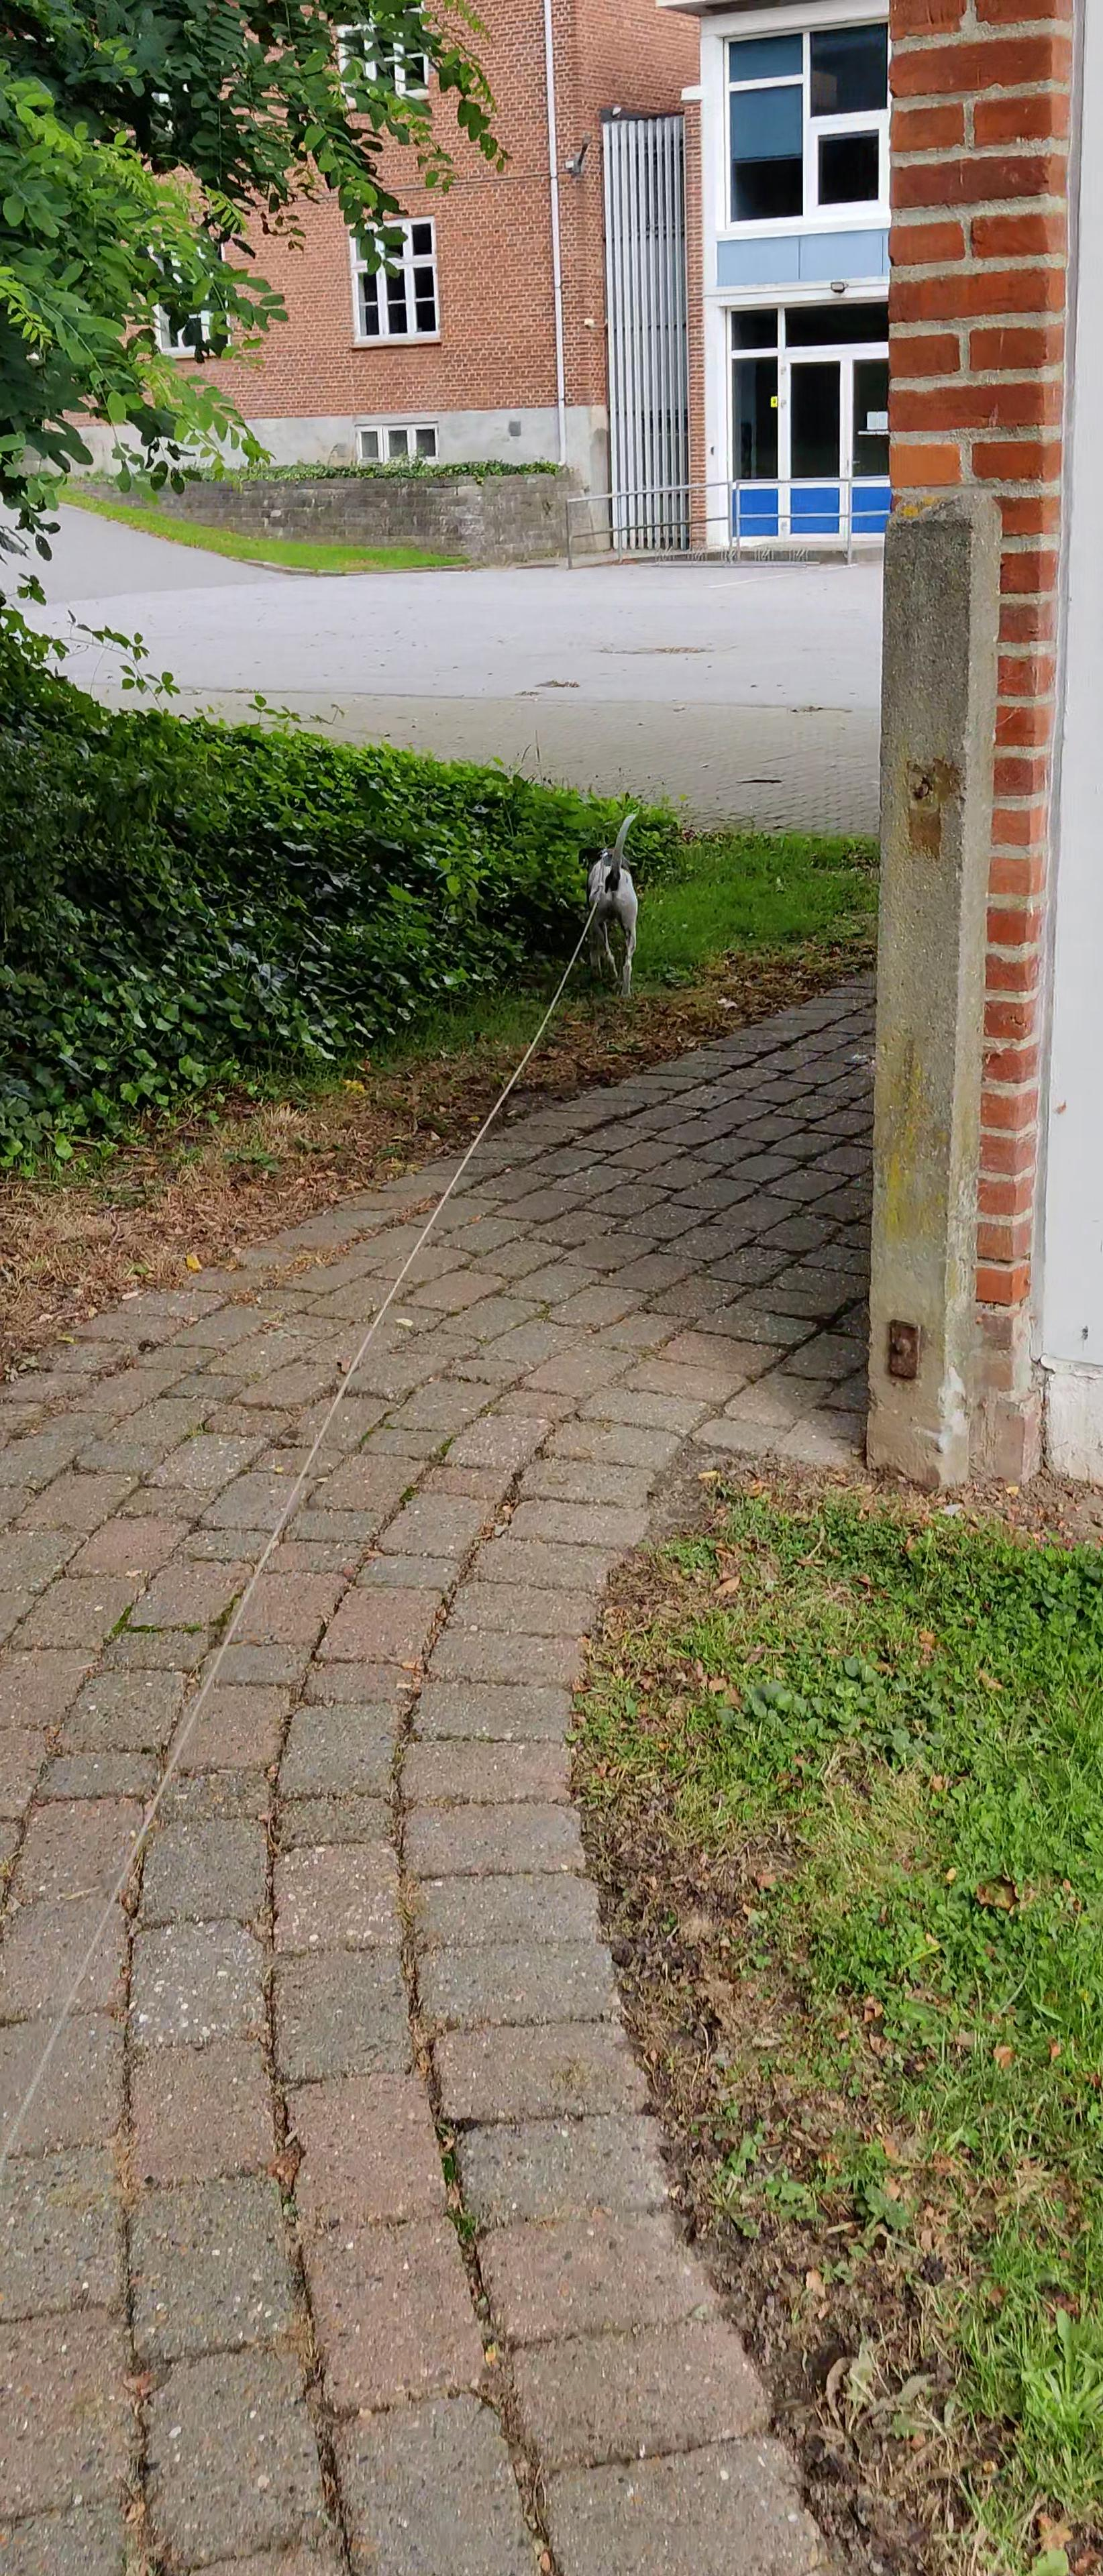Dog: (567, 795, 651, 1010)
